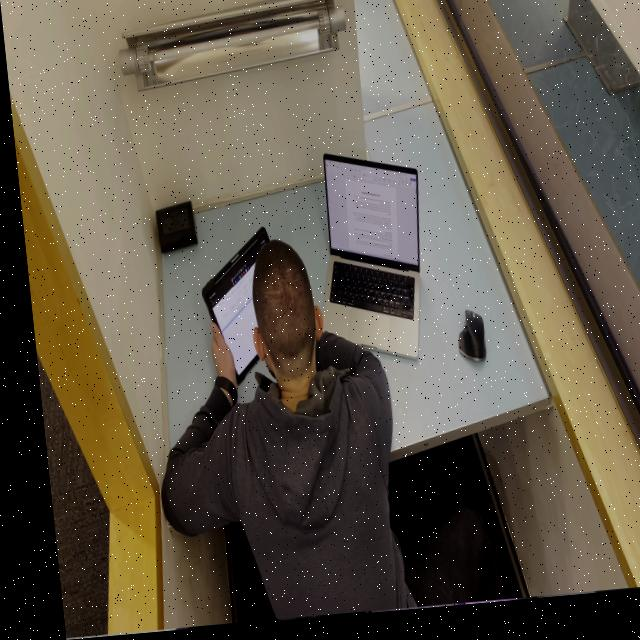bag: (189, 229, 276, 390)
ipad: (130, 230, 489, 632)
laptop: (299, 152, 428, 374)
mouse: (447, 316, 479, 372)
